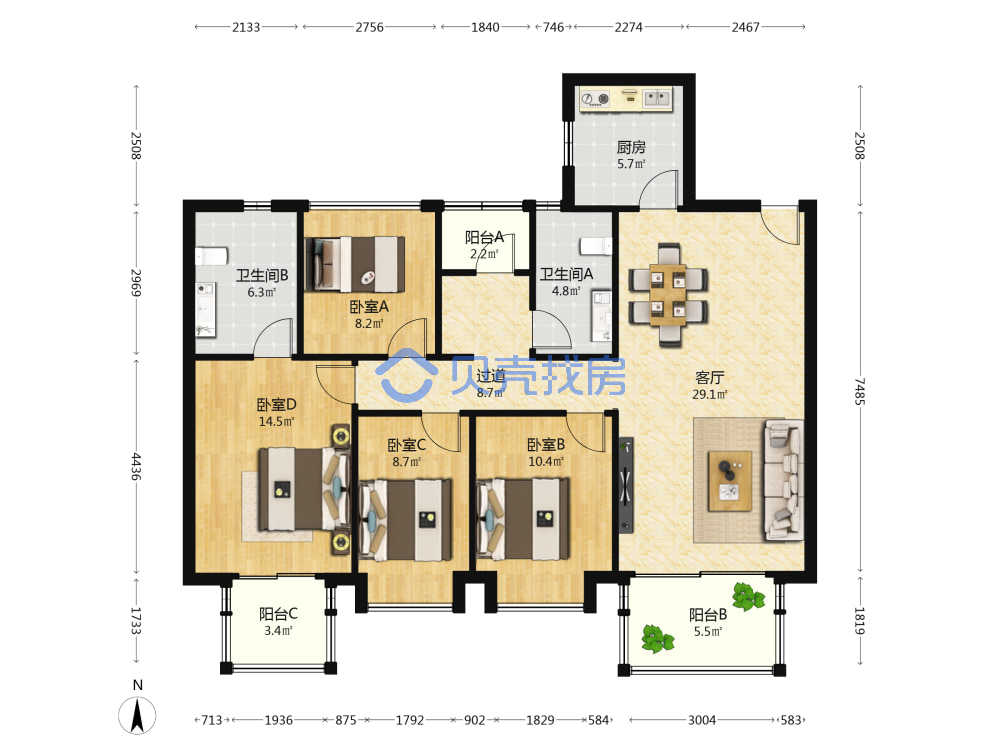DOOR(单开门): (633, 168, 682, 212), (384, 316, 430, 361), (562, 411, 608, 455), (418, 410, 465, 453), (250, 315, 294, 360), (758, 201, 802, 246), (474, 231, 517, 276), (530, 308, 575, 351), (313, 363, 358, 405)
DOOR（移门）: (632, 567, 767, 582), (236, 571, 319, 582)
